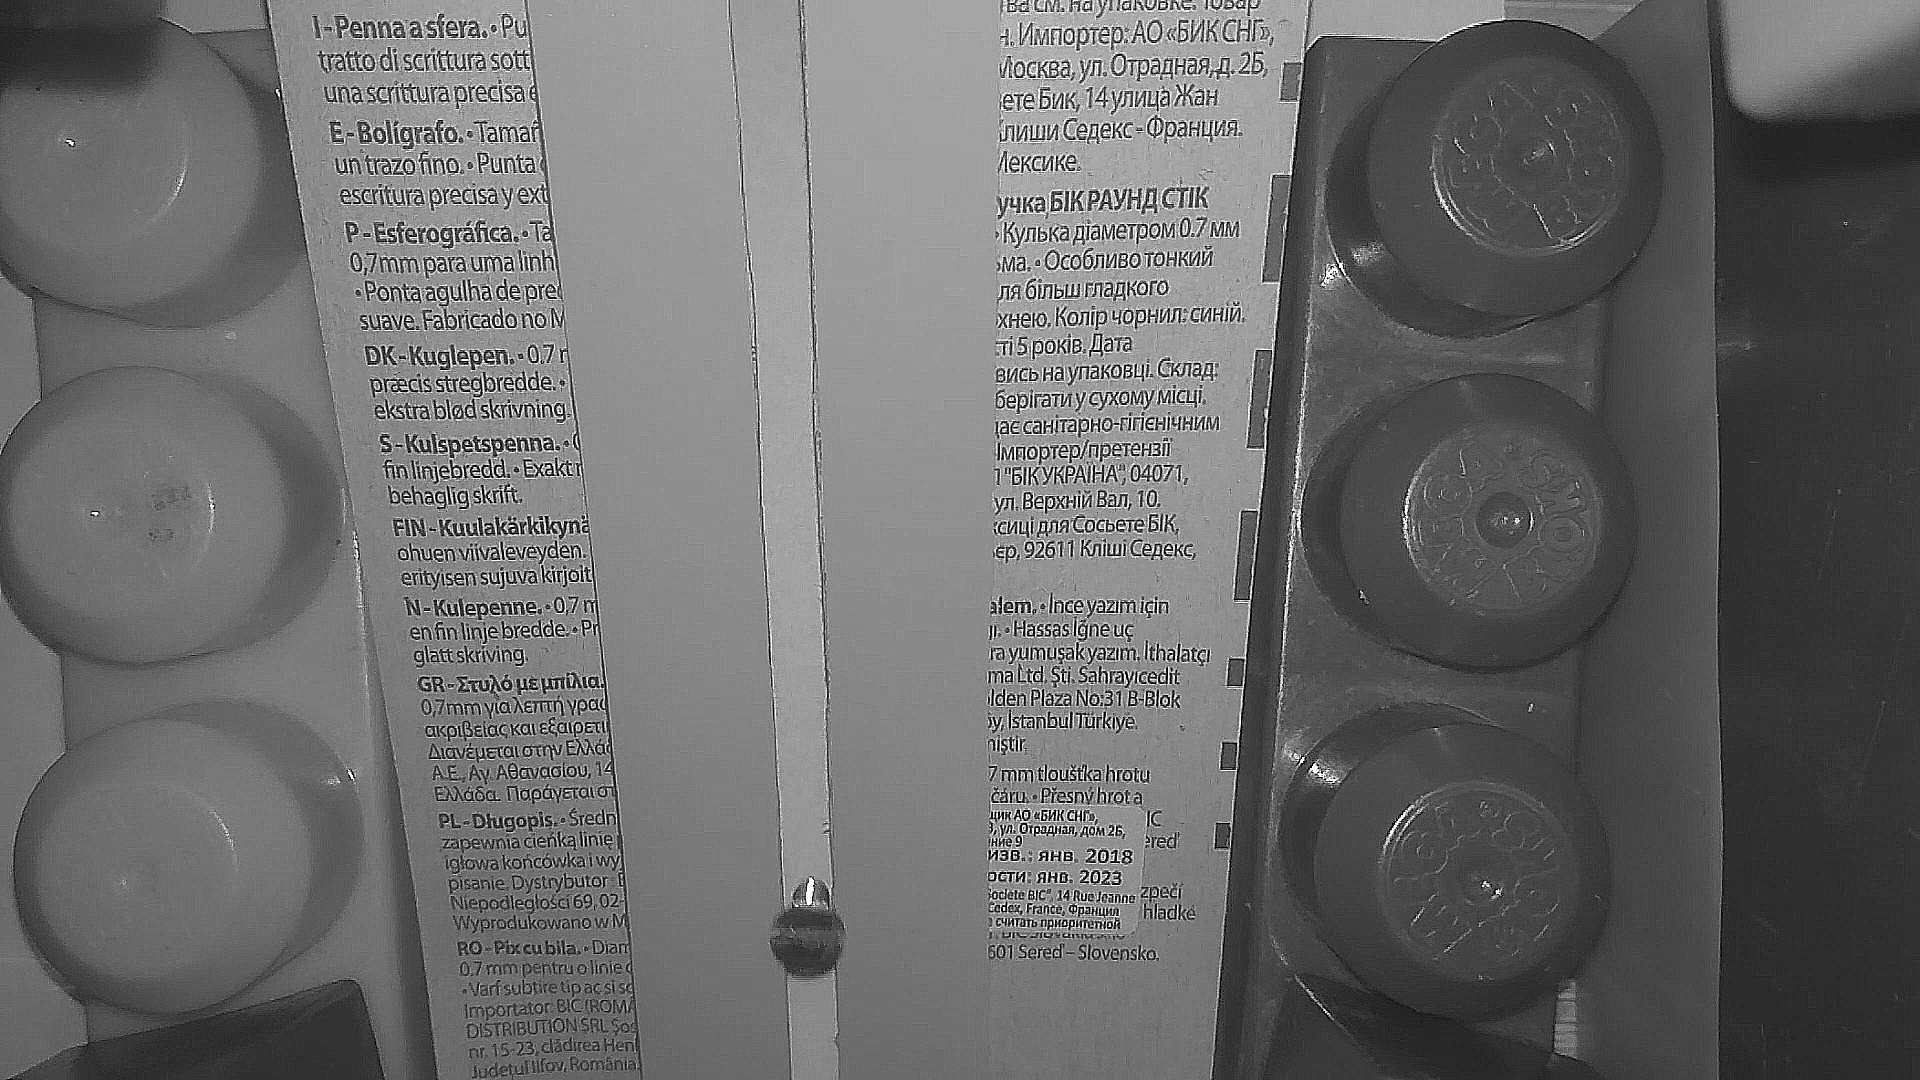i: (771, 905, 845, 978)
